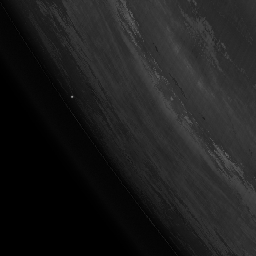Target: (69, 94, 75, 100)
